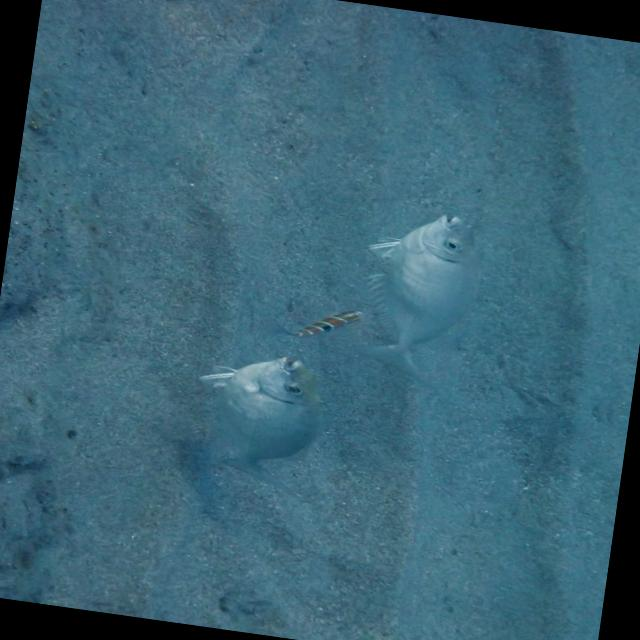Sokar Baligi: (335, 192, 504, 400), (175, 341, 341, 498)
